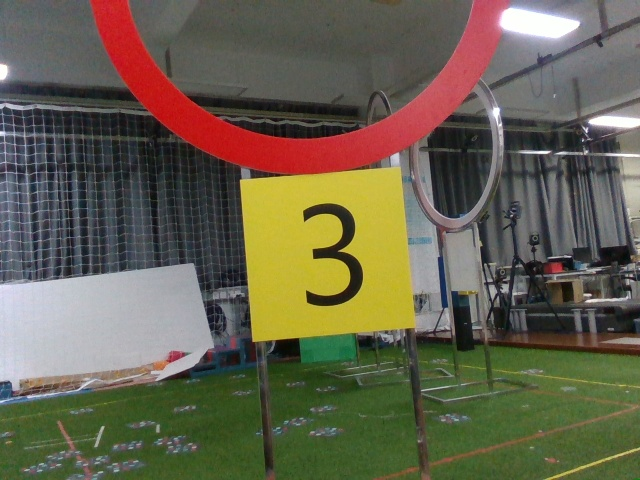target: (252, 177, 410, 330)
